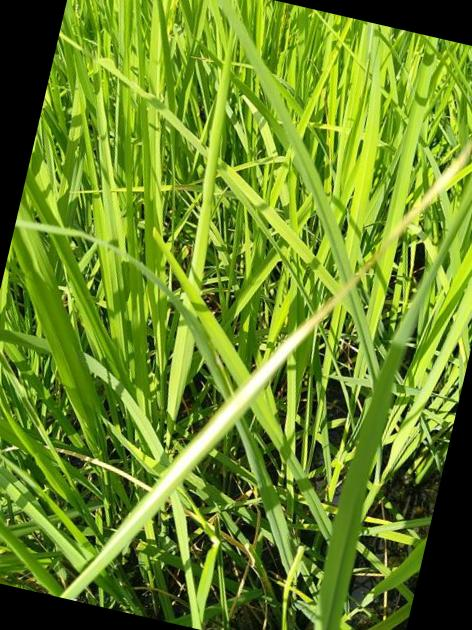Leaf Blight: (57, 147, 472, 601)
